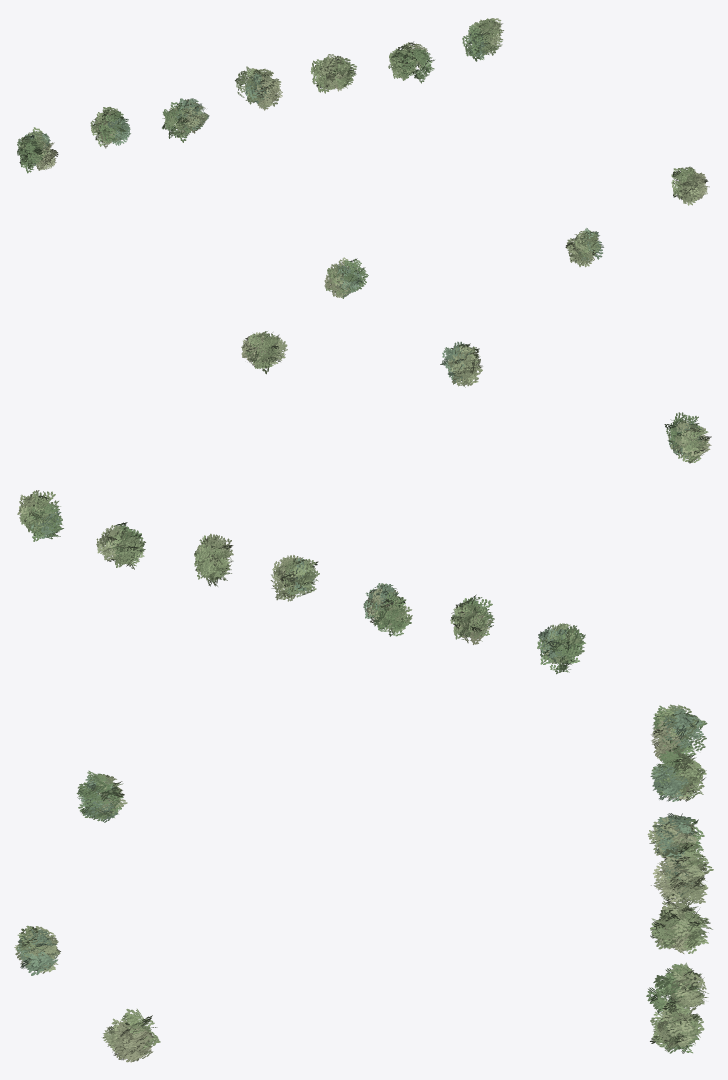
Rendered from campus-tree-1_-4-middle.glb.
3 views of the same model, one above another, from view 1: azimuth 30°, elevation 25°; view 2: azimuth 150°, elevation 25°; view 3: azimuth 270°, elevation 25° (orthographic). The views are drawn at different scales.
Visible parts, largest first — view 1: Campus leaf canopy; view 2: Campus leaf canopy; view 3: Campus leaf canopy.
Part boxes in pixels (x1,y1,x2,y2): Campus leaf canopy: (17,18,709,298); Campus leaf canopy: (17,331,711,674); Campus leaf canopy: (14,704,713,1062).
Size of the model in its own units: 73.76 by 7.66 by 65.98.
1 material, 1 textured.
